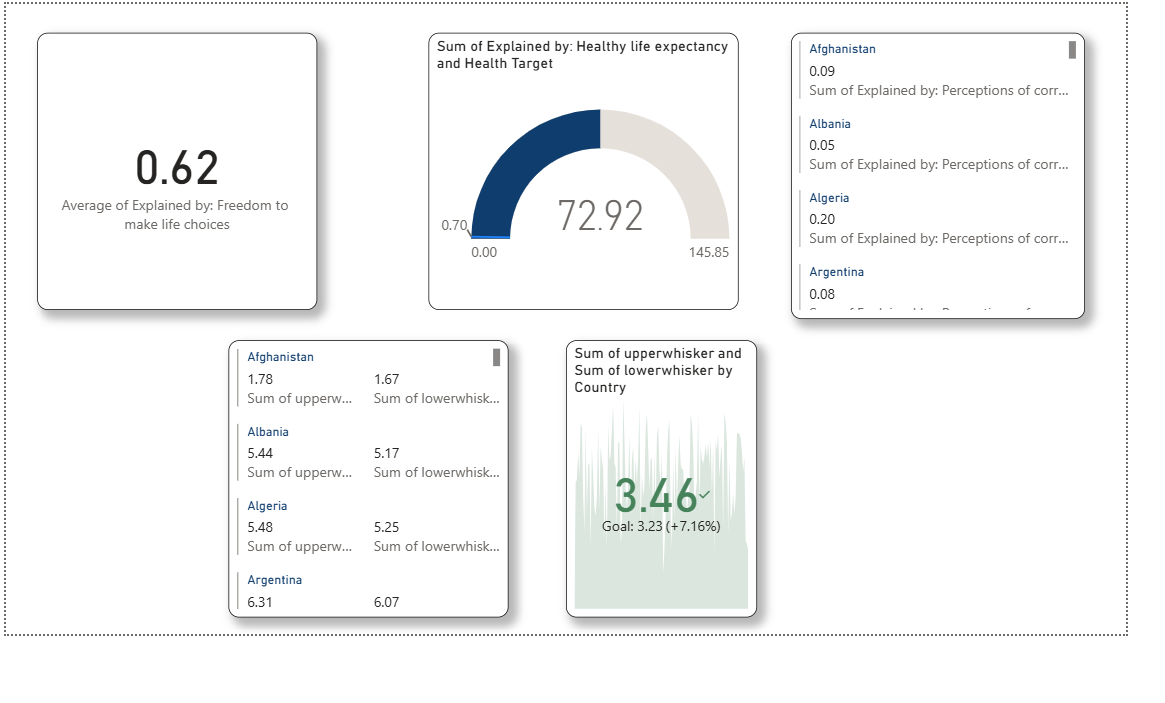

The page's visual inventory and layout, read from the dashboard file:
{"tool":"powerbi","page":{"name":"Page 2","canvas":[1280,720],"ordinal":1},"visuals":[{"type":"gauge","fields":{"Y":["Sum(whr2024.Explained by: Healthy life expectancy)"],"TargetValue":["whr2024.Health Target"]},"box":[482.9,32.9,354.3,317.1],"z":0},{"type":"card","title":"Freedom to make life Choice","fields":{"Values":["Avg(whr2024.Explained by: Freedom to make life choices)"]},"box":[35.7,32.9,320,317.1],"z":1000},{"type":"multiRowCard","title":"Perceptions of  correuption","fields":{"Values":["whr2024.Country","Sum(whr2024.Explained by: Perceptions of corruption)"]},"box":[897.1,32.9,335.7,327.1],"z":2000},{"type":"multiRowCard","title":"Sum of upperwhisker and upperwhisker","fields":{"Values":["whr2024.Country","Sum(whr2024.upperwhisker)","Sum(whr2024.lowerwhisker)"]},"box":[35.6,383.8,918.7,306.7],"z":3000},{"type":"kpi","fields":{"Indicator":["Sum(whr2024.upperwhisker)"],"TrendLine":["whr2024.Country"],"Goal":["Sum(whr2024.lowerwhisker)"]},"box":[1015,384,218.9,306.9],"z":4000}]}

Visuals, with their boxes on the page's 1280x720 design canvas (x1, y1, x2, y2). These are canvas units, not pixel positions in the 1165x703 screenshot, which may show the page scaled, cropped or inside an application window:
gauge - Sum(whr2024.Explained by: Healthy life expectancy) x whr2024.Health Target: box(483, 33, 837, 350)
"Freedom to make life Choice" card: box(36, 33, 356, 350)
"Perceptions of  correuption" multiRowCard: box(897, 33, 1233, 360)
"Sum of upperwhisker and upperwhisker" multiRowCard: box(36, 384, 954, 690)
kpi - Sum(whr2024.upperwhisker) x whr2024.Country: box(1015, 384, 1234, 691)
